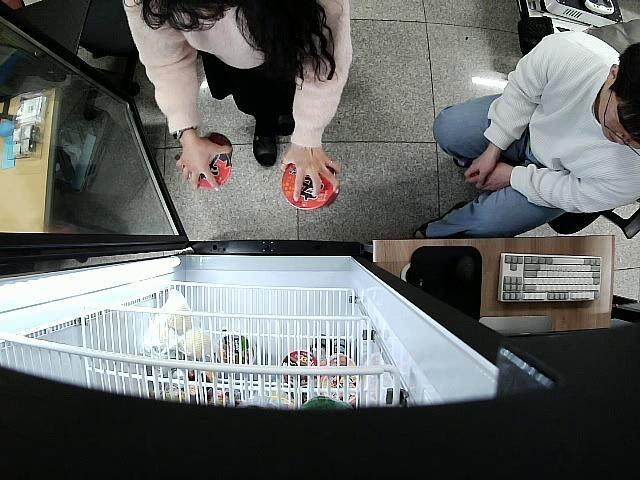01_ShinRamen_L: (281, 164, 340, 210), (198, 132, 234, 189)
